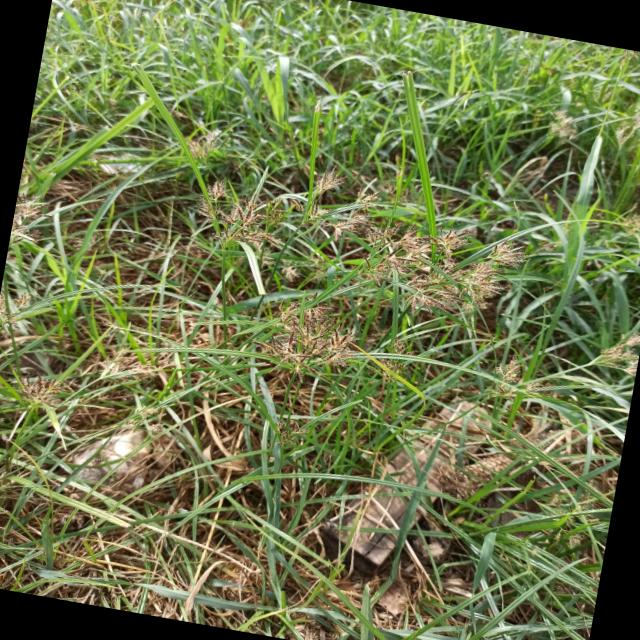cyperus: (355, 208, 528, 323), (240, 283, 372, 388), (184, 171, 286, 255), (286, 156, 385, 242), (158, 105, 230, 165), (486, 348, 542, 407), (10, 368, 70, 416), (8, 189, 52, 254), (590, 325, 640, 376), (373, 334, 419, 386), (0, 285, 33, 336), (544, 104, 582, 144), (610, 198, 640, 240), (611, 113, 640, 152)
